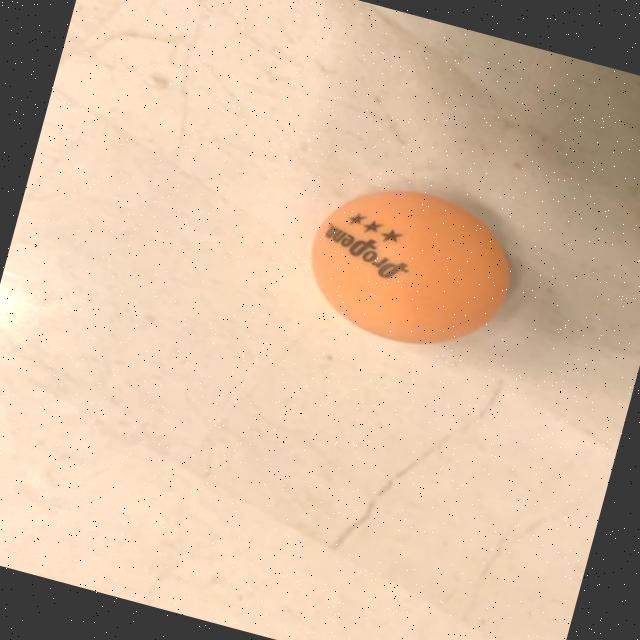ping-pong-ball: (274, 154, 548, 376)
